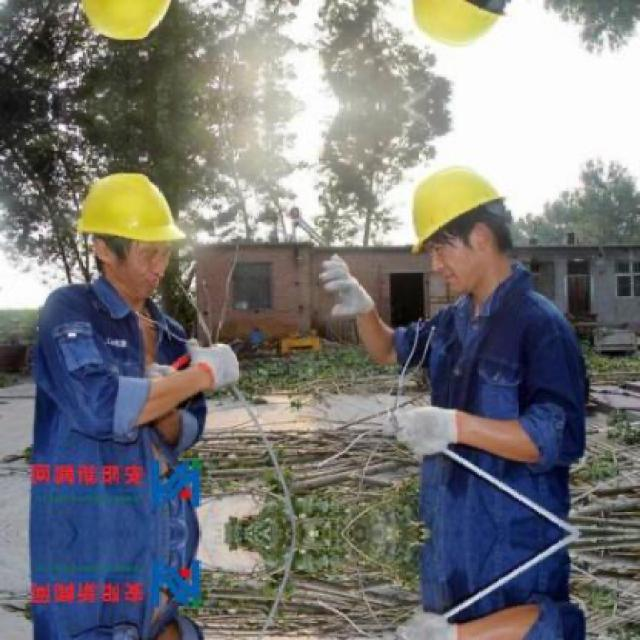helmet: (400, 150, 526, 299), (71, 163, 192, 301), (399, 0, 526, 65), (71, 0, 194, 51)
